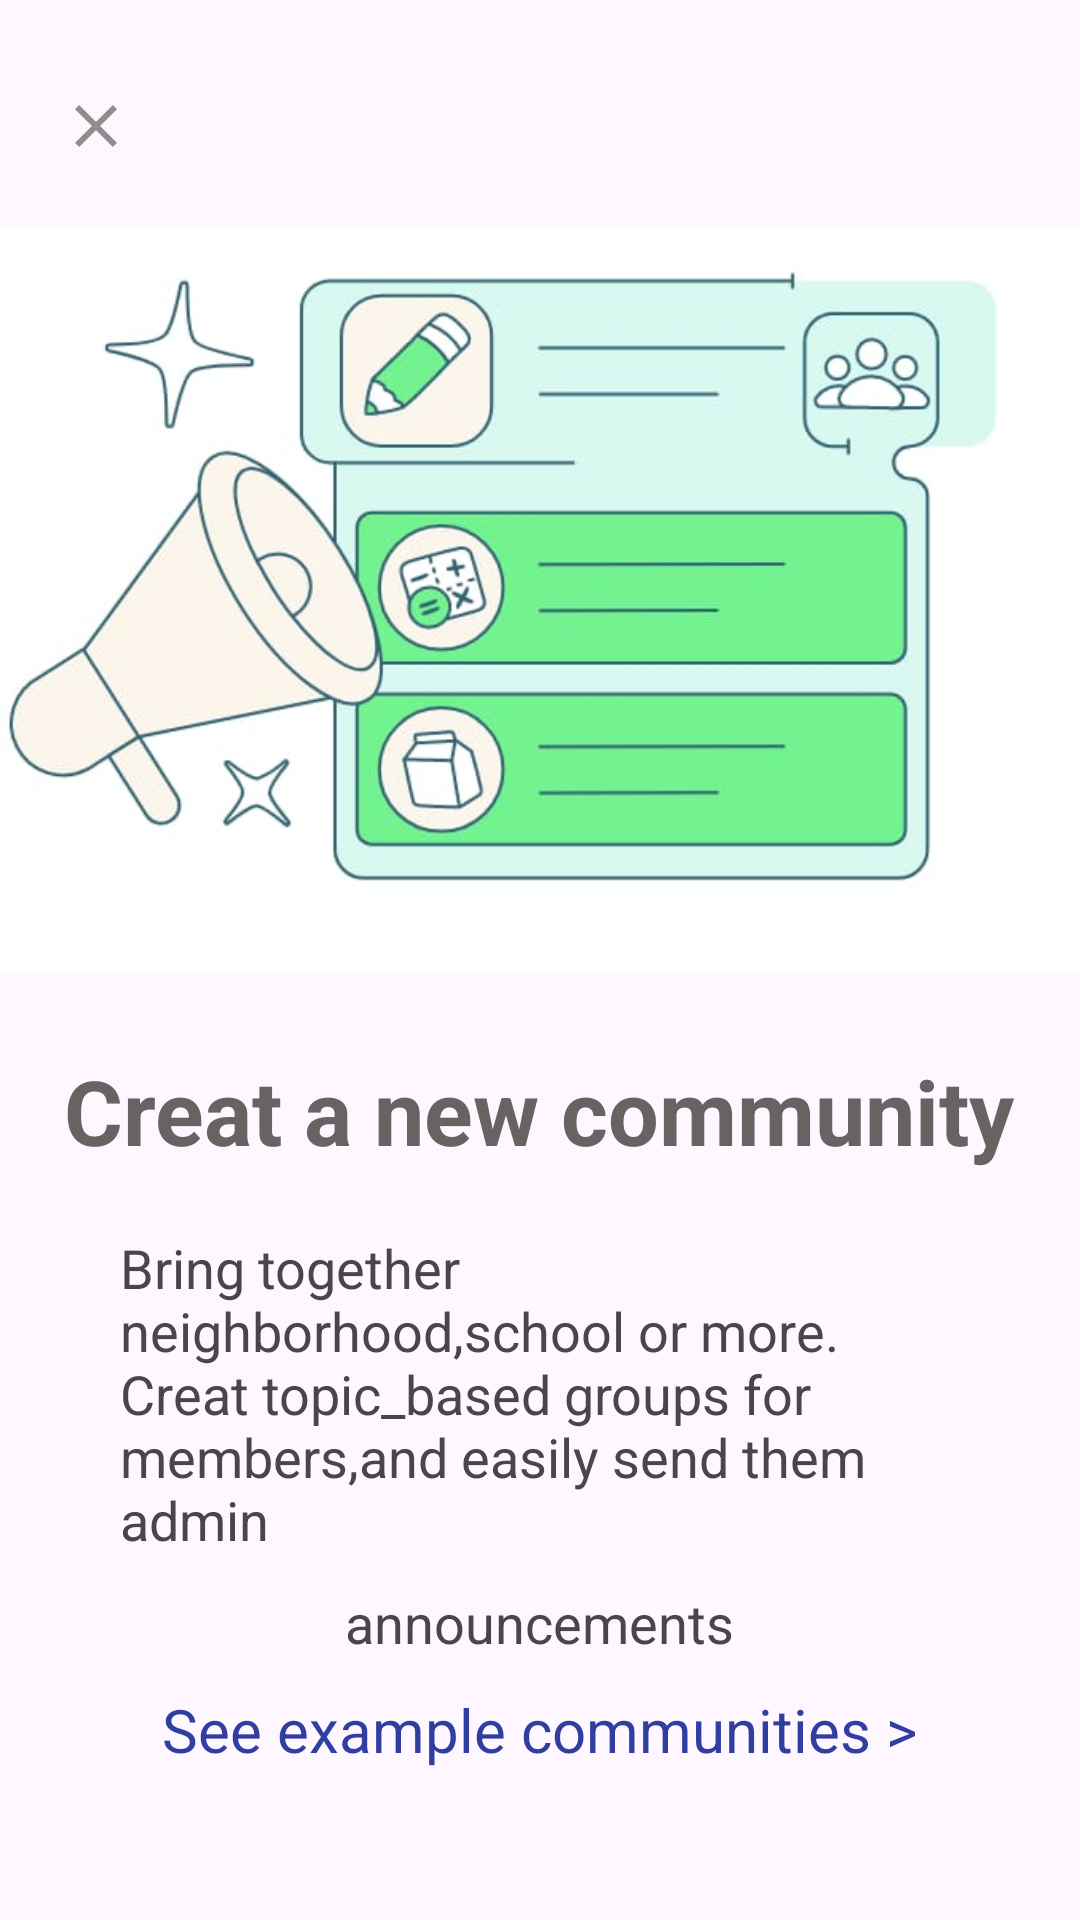

Icon click points for this 1080×1920 phone screenshot, format [x,y]:
clear: [96,126]
